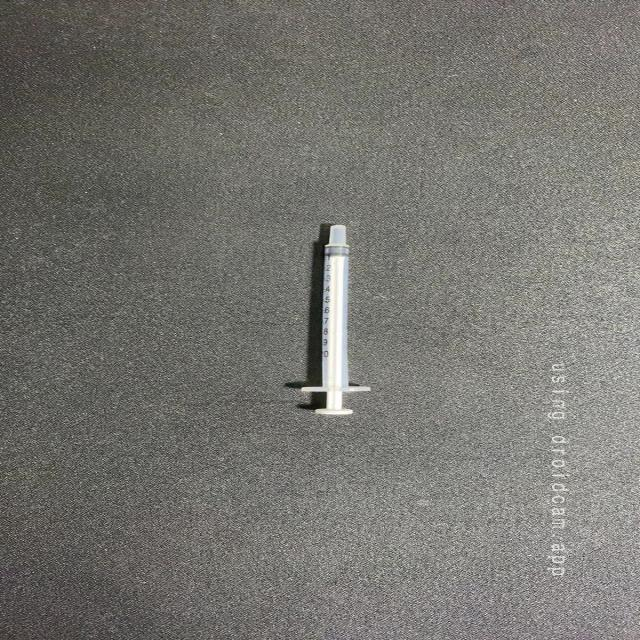syringe: (267, 215, 407, 427)
